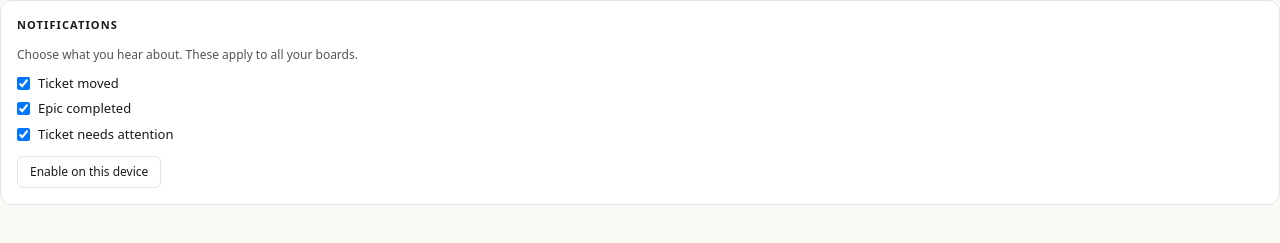
Test case: NotificationsSection › does not subscribe when permission is refused
Click the button "Enable on this device" at (89, 172), box [17,156,161,188]
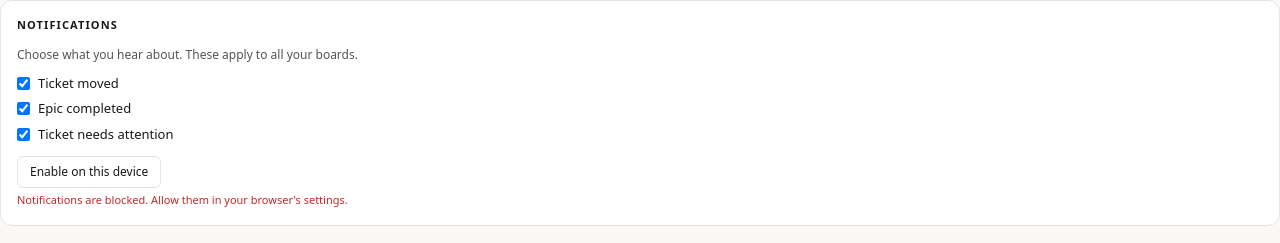
Expected: the message "Notifications are blocked. Allow them in your browser's settings." is shown, [17,192,348,207]
